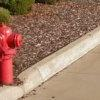Hydrant: (0, 16, 26, 92)
